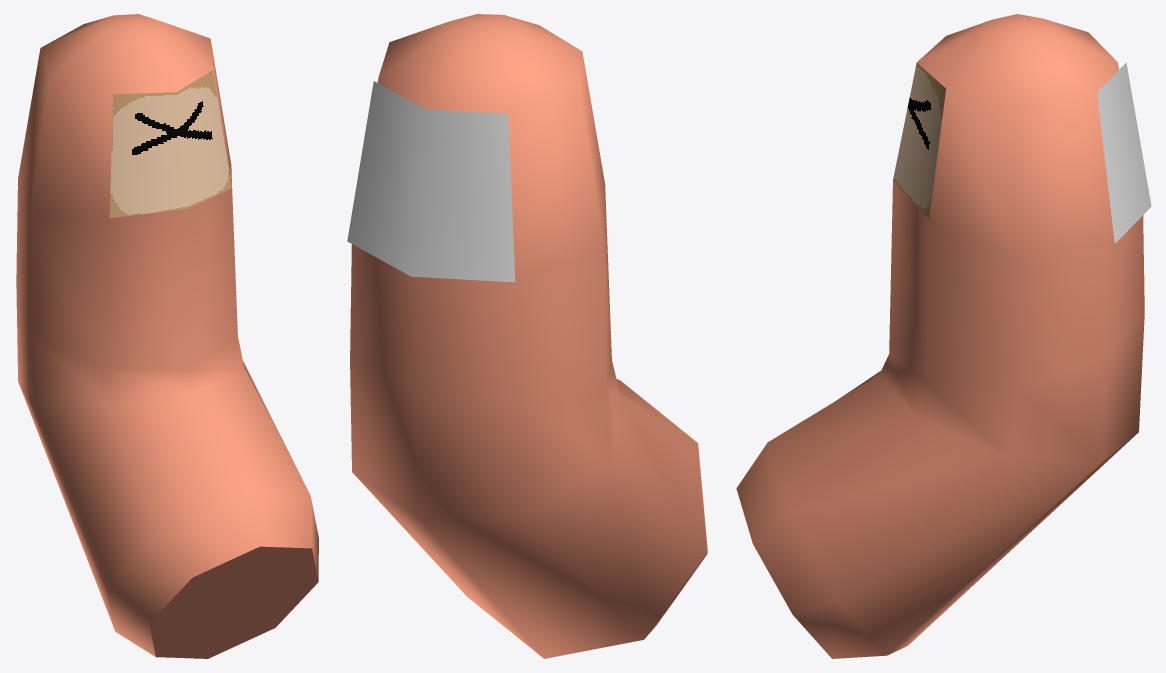
The model's file is OTA_D_03.glb.
The picture shows the model from 3 angles, left to right: view 1: azimuth 30°, elevation 25°; view 2: azimuth 150°, elevation 25°; view 3: azimuth 270°, elevation 25°; orthographic projection. The views are drawn at different scales.
Parts seen in each view (by area): view 1: FRAME_ROOT; view 2: FRAME_ROOT; view 3: FRAME_ROOT.
Boxes of the visible parts, x1,y1,x2,y2 form: FRAME_ROOT: (16,14,318,658); FRAME_ROOT: (347,14,707,658); FRAME_ROOT: (736,14,1151,658).
Size of the model in its own units: 1.28 by 3.35 by 2.01.
3 materials, 3 textured.
